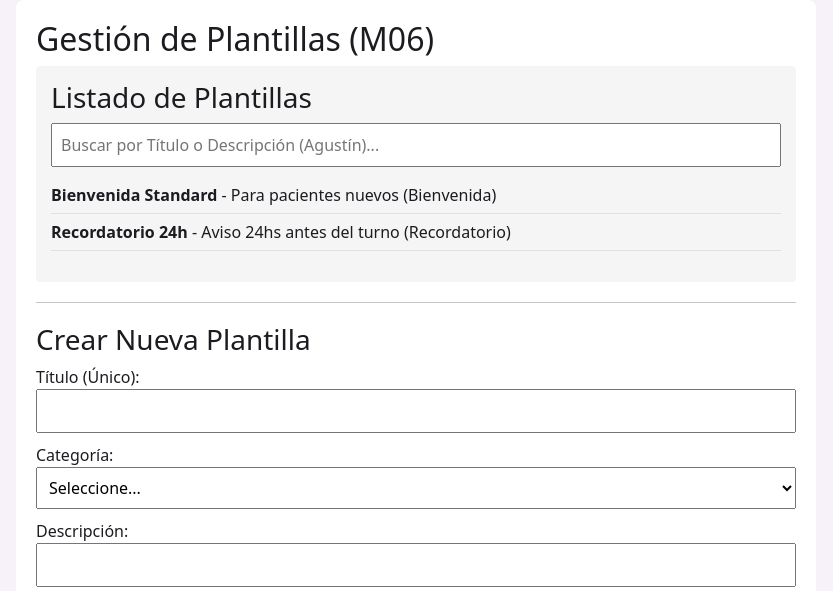
Scenario: AgendaYA - M06 Búsqueda dinámica de plantillas (Agustín Aguilera) › Escenario 3: Búsqueda sin resultados de coincidencia y mensaje de estado vacío
// Ingresar una consulta arbitraria sin coincidencia en títulos ni descripciones
In the field with test id "search-template-input": (416,145) [51,123,781,167], type "xyz123"
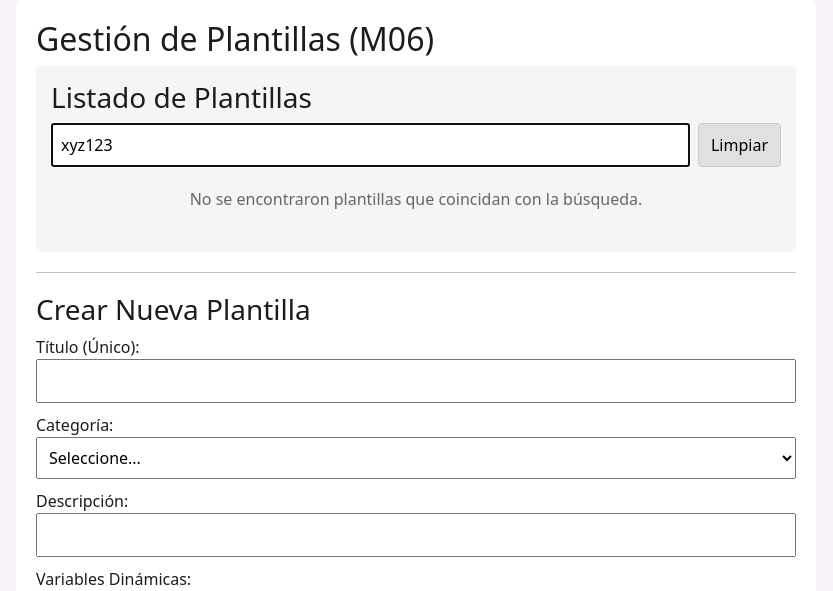
expect the list item with test id "template-item" is gone: met
expect the list item with test id "no-templates-message" shows "No se encontraron plantillas que coincidan con la búsqueda": met, box [190,188,643,210]
